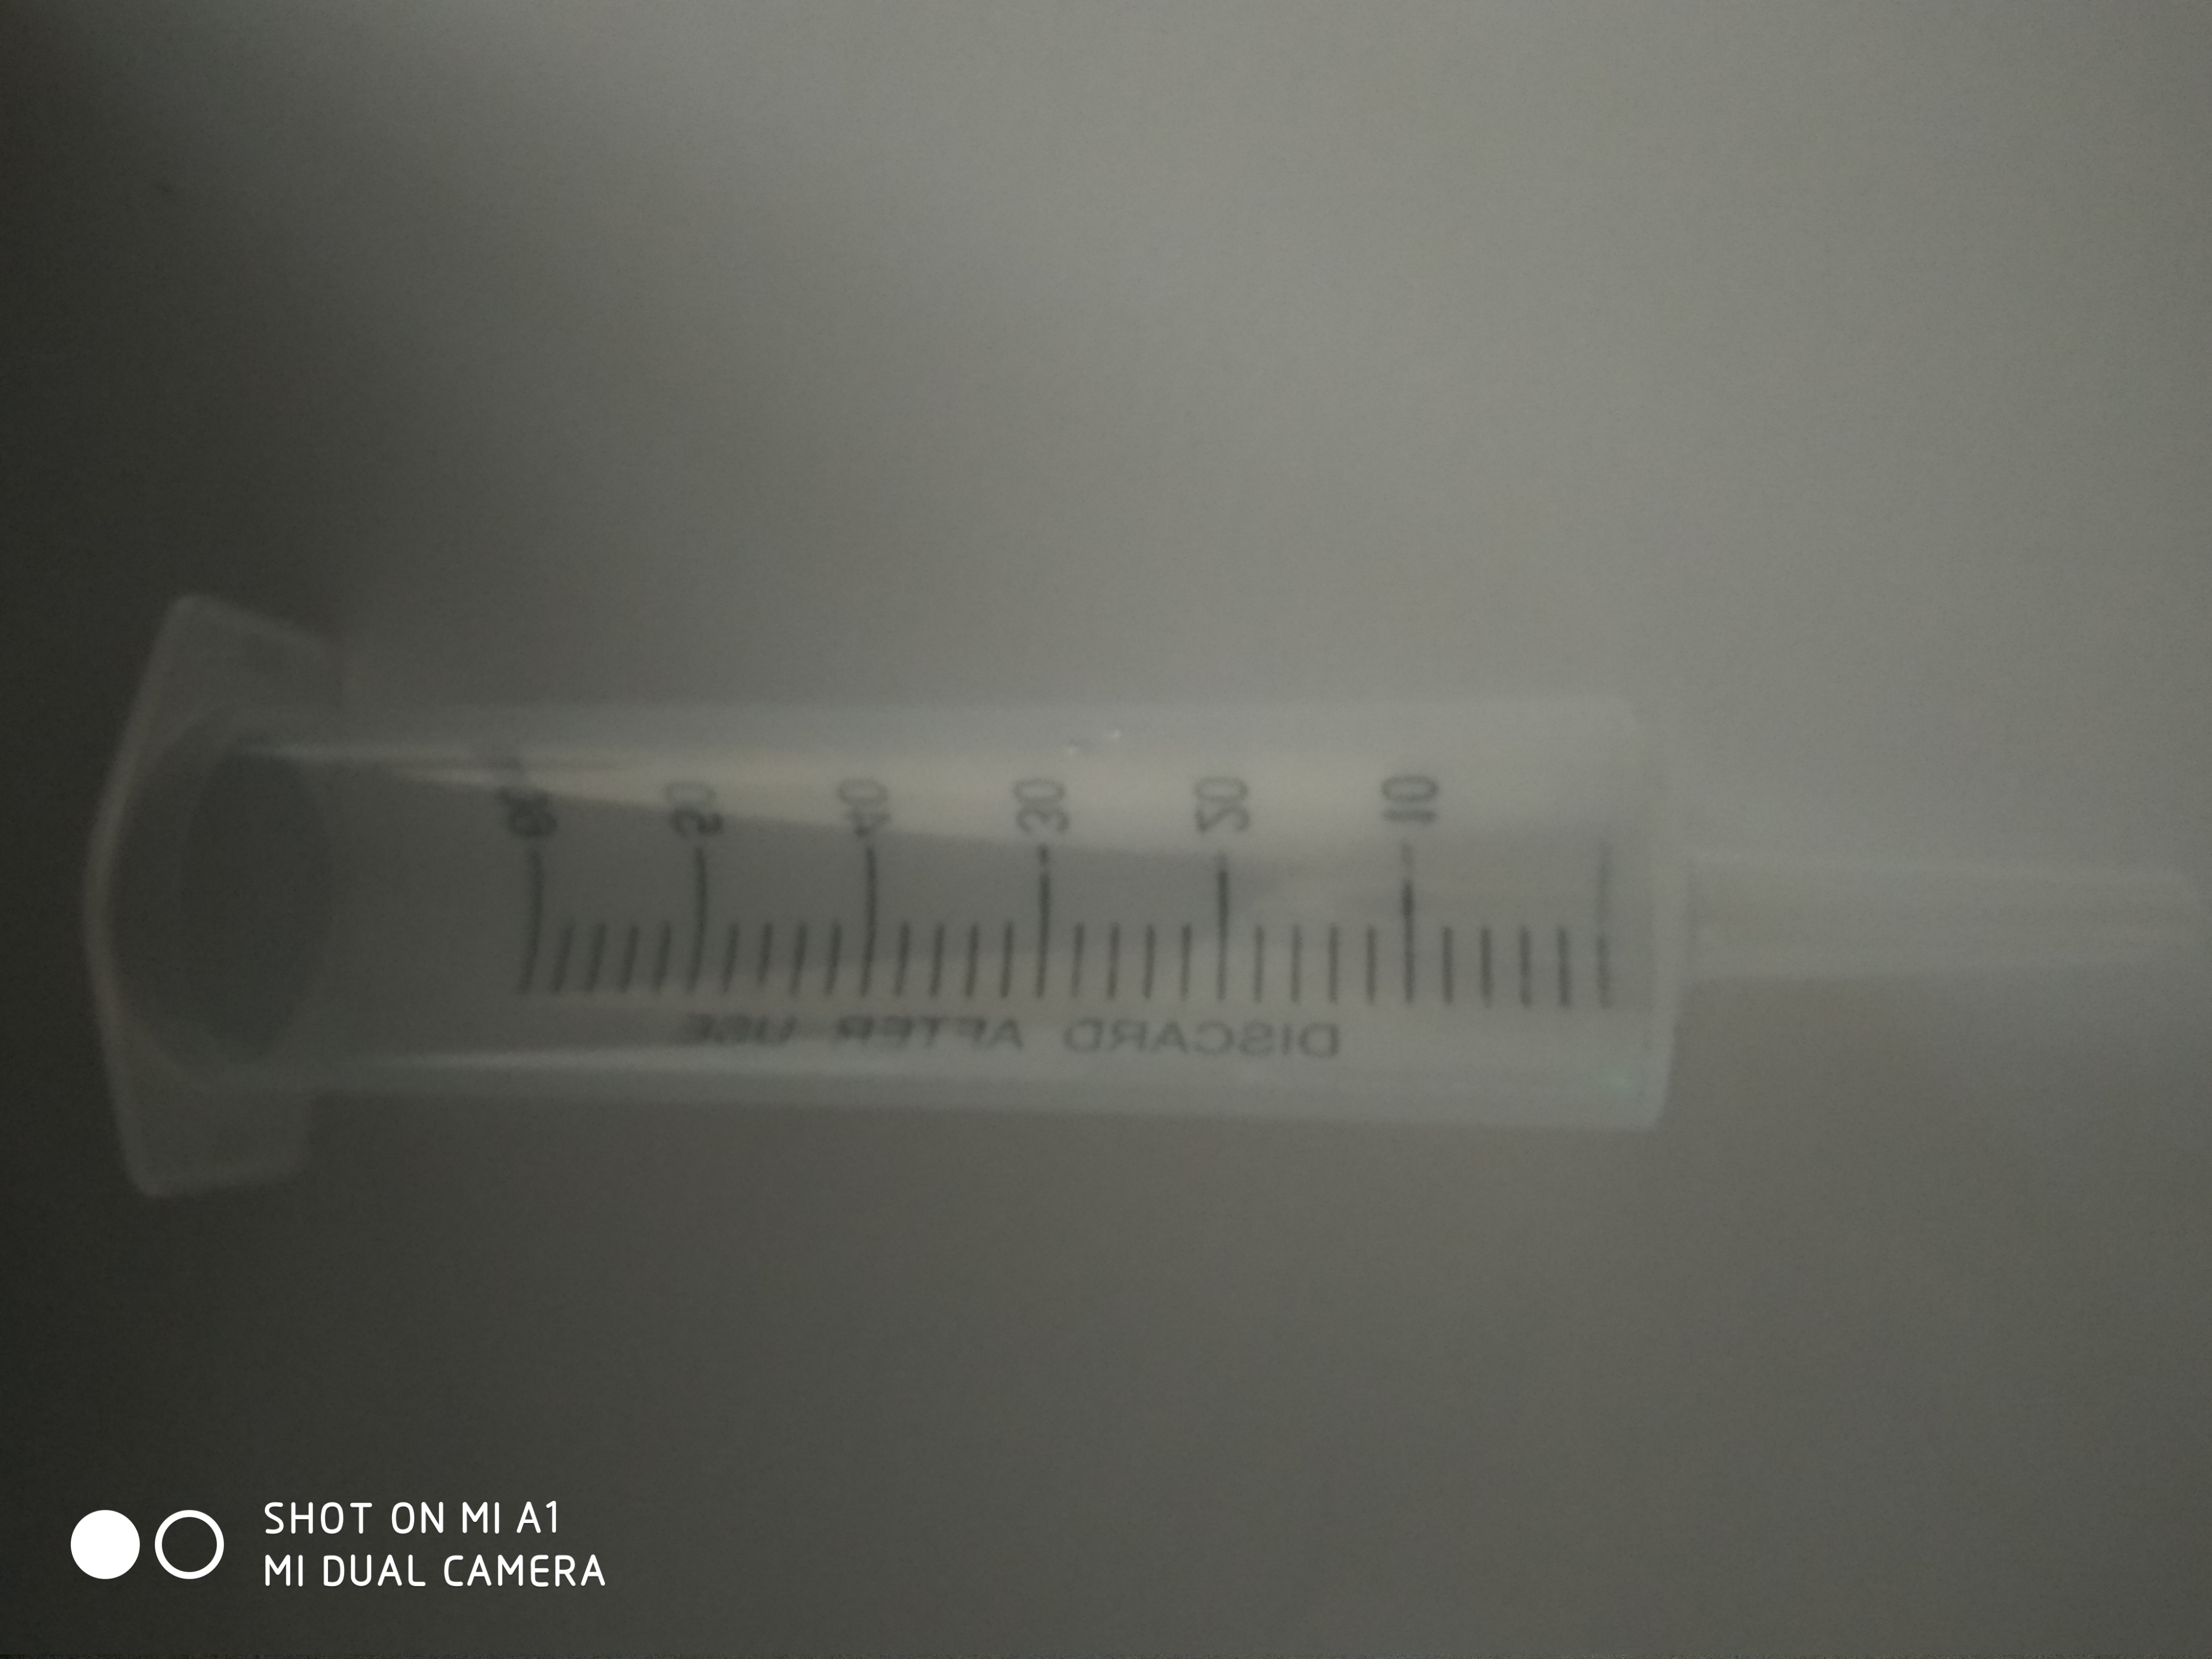syringe: (75, 582, 2203, 1204)
